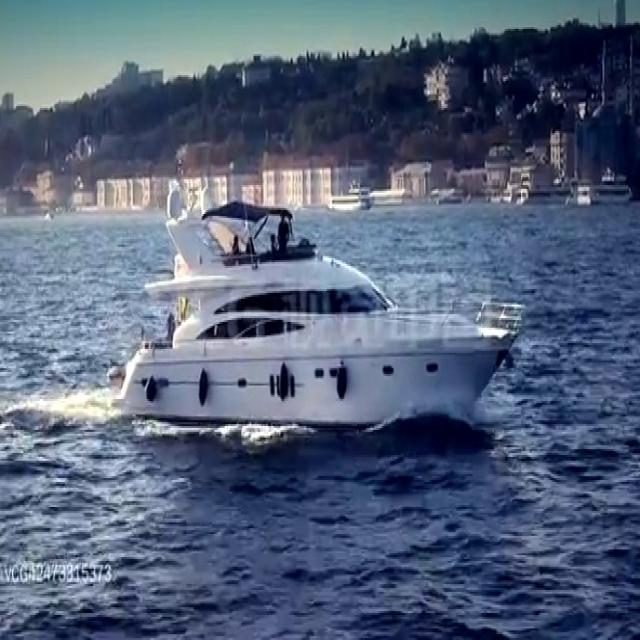houseboat: (119, 184, 513, 437)
